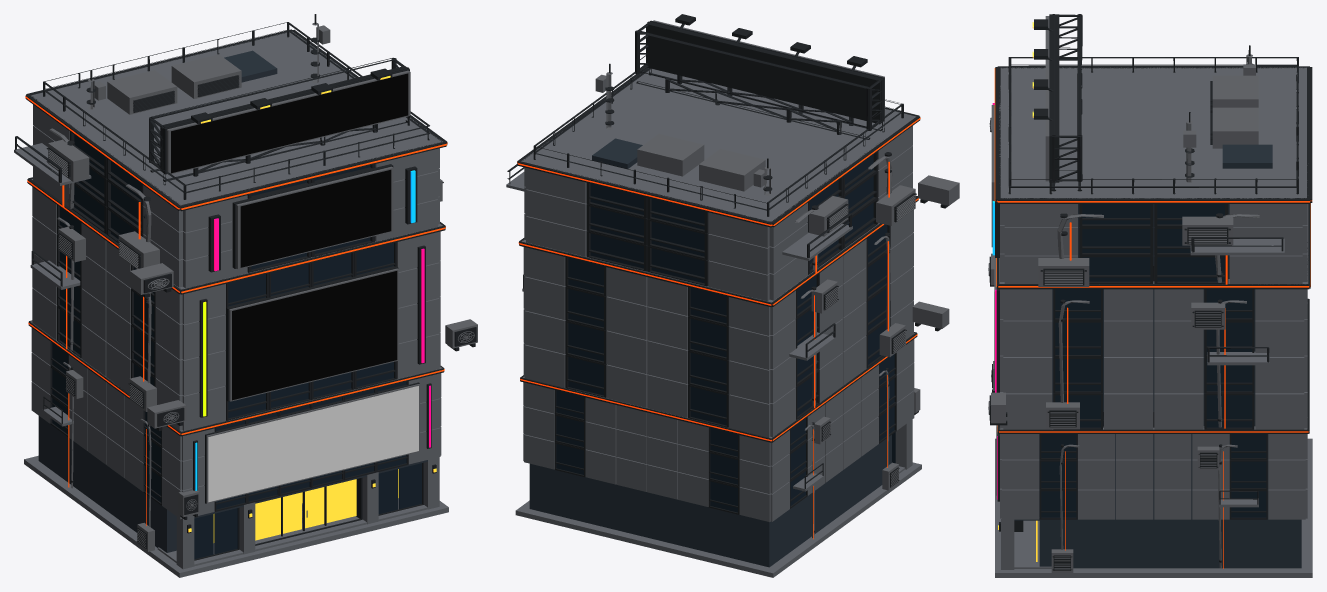
Rendered from runner-building-03.glb.
The picture shows the model from 3 angles, left to right: view 1: azimuth 30°, elevation 25°; view 2: azimuth 150°, elevation 25°; view 3: azimuth 270°, elevation 25°; orthographic projection. The views are drawn at different scales.
Visible parts, largest first — view 1: building-03-tier-2, building-03-tier-1, building-03-tier-0, building-03-ad; view 2: building-03-tier-2, building-03-tier-0, building-03-tier-1; view 3: building-03-tier-2, building-03-tier-0, building-03-tier-1.
Boxes of the visible parts, x1,y1,x2,y2 form: building-03-tier-2: (14, 14, 447, 297); building-03-tier-1: (27, 177, 477, 431); building-03-tier-0: (24, 320, 448, 577); building-03-ad: (208, 386, 418, 502); building-03-tier-2: (506, 14, 959, 301); building-03-tier-0: (515, 332, 921, 577); building-03-tier-1: (518, 195, 949, 437); building-03-tier-2: (989, 14, 1312, 286); building-03-tier-0: (991, 298, 1312, 577); building-03-tier-1: (988, 203, 1310, 429).
Size of the model in its own units: 10.3 by 12.83 by 8.44.
